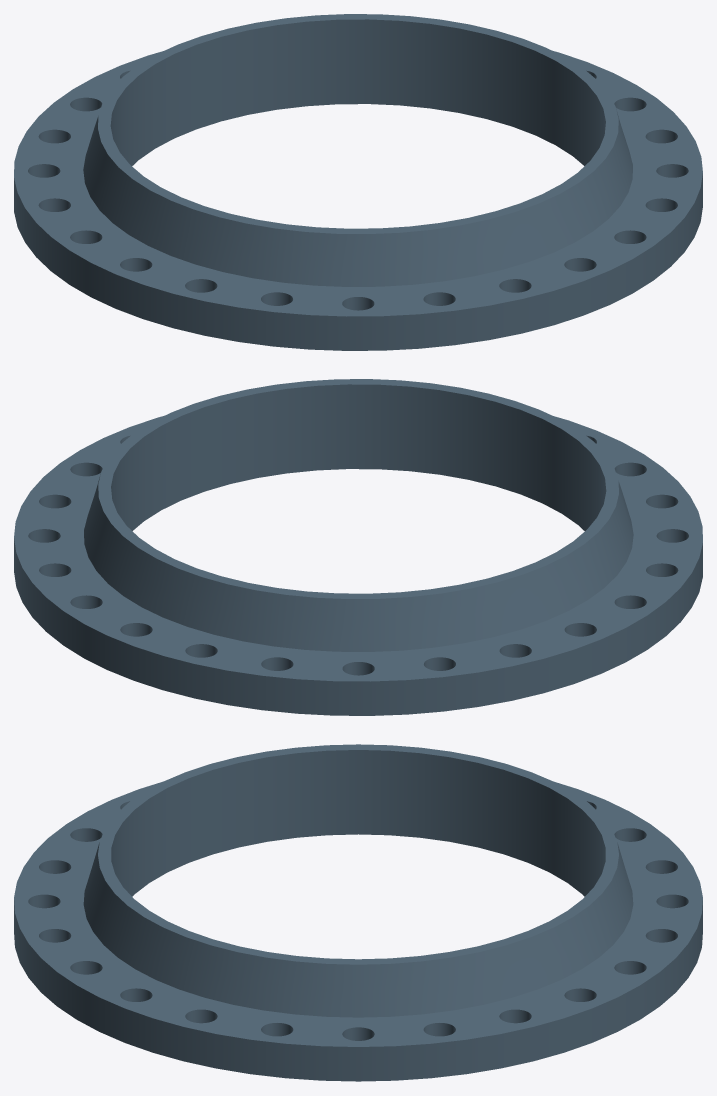
Rendered from flanec-vorotnikovyj-DN700-PN25.glb.
3 renders of one model, top to bottom at view 1: azimuth 30°, elevation 25°; view 2: azimuth 150°, elevation 25°; view 3: azimuth 270°, elevation 25°, orthographic.
Visible parts, largest first — view 1: Open CASCADE STEP translator 7.9 109; view 2: Open CASCADE STEP translator 7.9 109; view 3: Open CASCADE STEP translator 7.9 109.
Boxes of the visible parts, x1,y1,x2,y2 form: Open CASCADE STEP translator 7.9 109: [14, 14, 702, 350]; Open CASCADE STEP translator 7.9 109: [14, 379, 702, 715]; Open CASCADE STEP translator 7.9 109: [14, 744, 702, 1081].
Size of the model in its own units: 959 by 130 by 960.
